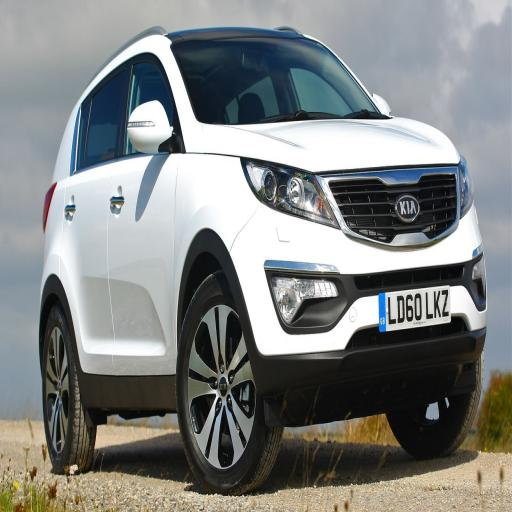Sedan-sDLz: (39, 28, 486, 492)
